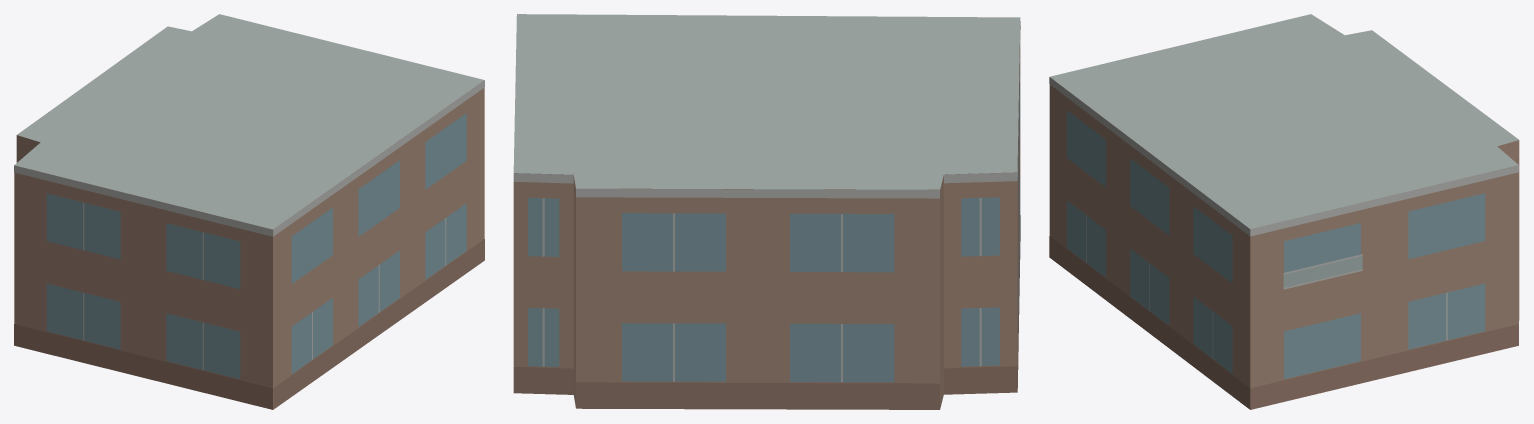
The model's file is survey-upis-32966076.glb.
The picture shows the model from 3 angles, left to right: view 1: azimuth 30°, elevation 25°; view 2: azimuth 150°, elevation 25°; view 3: azimuth 270°, elevation 25°; orthographic projection. The views are drawn at different scales.
Visible parts, largest first — view 1: survey-upis-32966076.tmp; view 2: survey-upis-32966076.tmp; view 3: survey-upis-32966076.tmp.
Part boxes in pixels (x1,y1,x2,y2): survey-upis-32966076.tmp: [14, 14, 484, 409]; survey-upis-32966076.tmp: [513, 14, 1020, 409]; survey-upis-32966076.tmp: [1049, 14, 1519, 409].
Bounding box in the file's own units: 15.6 × 6.1 × 14.4.
